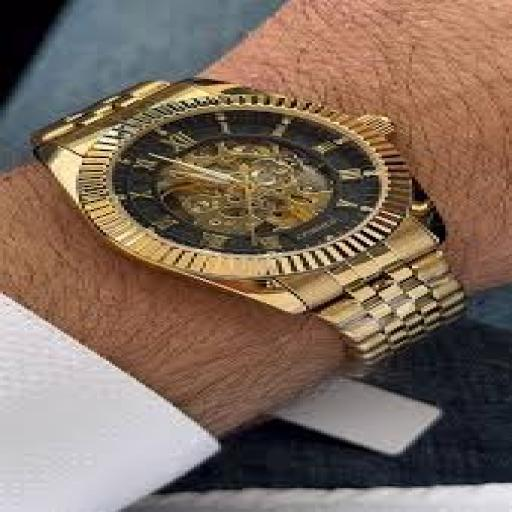KolSaati: (8, 36, 498, 395)
